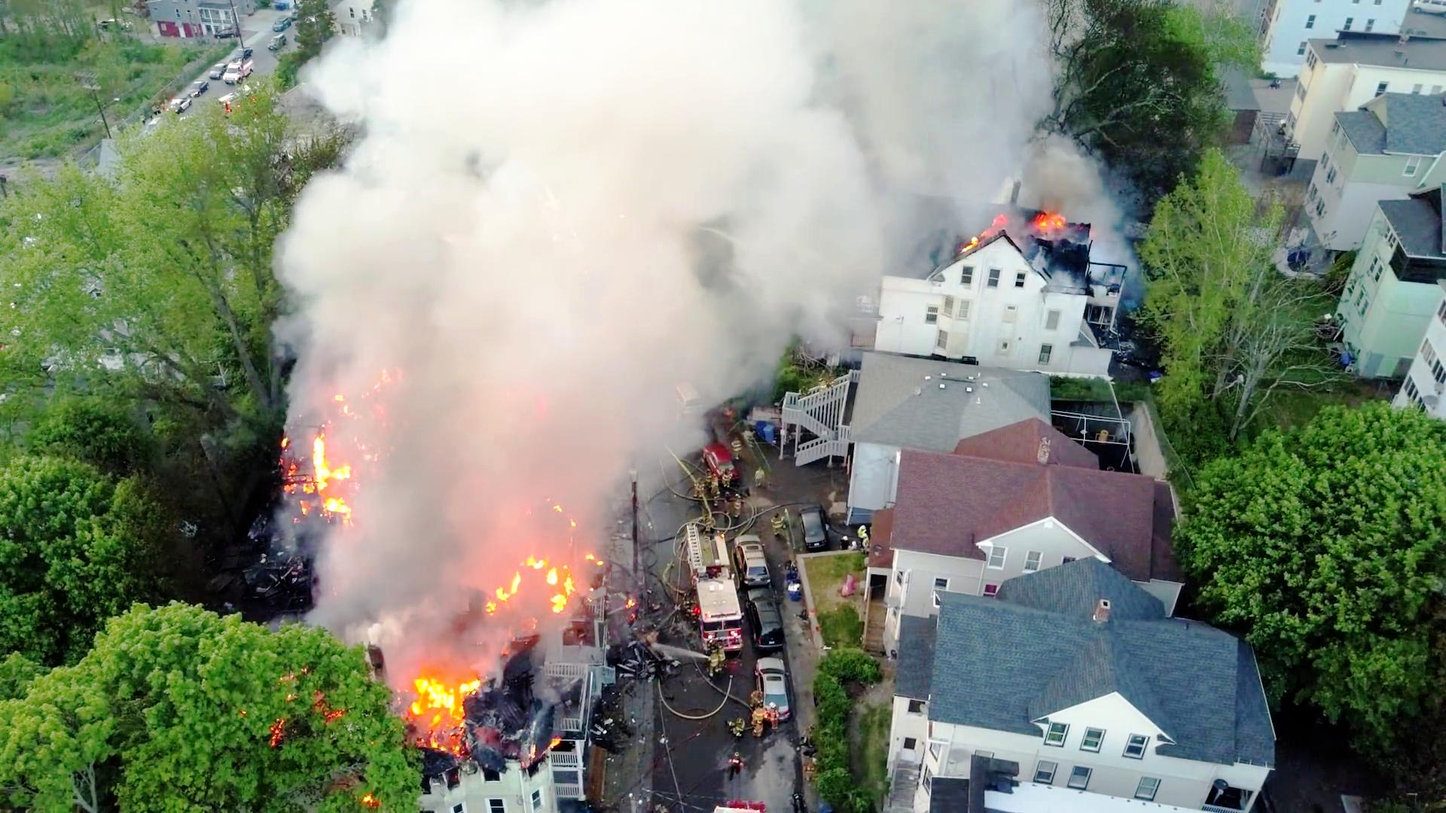fire: (278, 429, 362, 527), (405, 655, 477, 744), (496, 546, 582, 616)
smoke: (418, 68, 798, 336)
